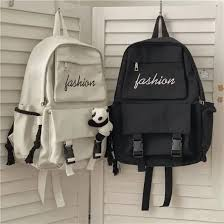bag: (102, 26, 215, 170)
